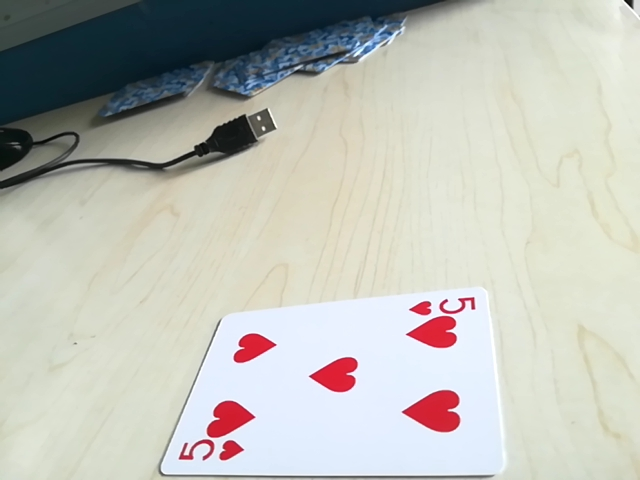hx 5: (407, 291, 483, 321), (174, 440, 244, 469)
